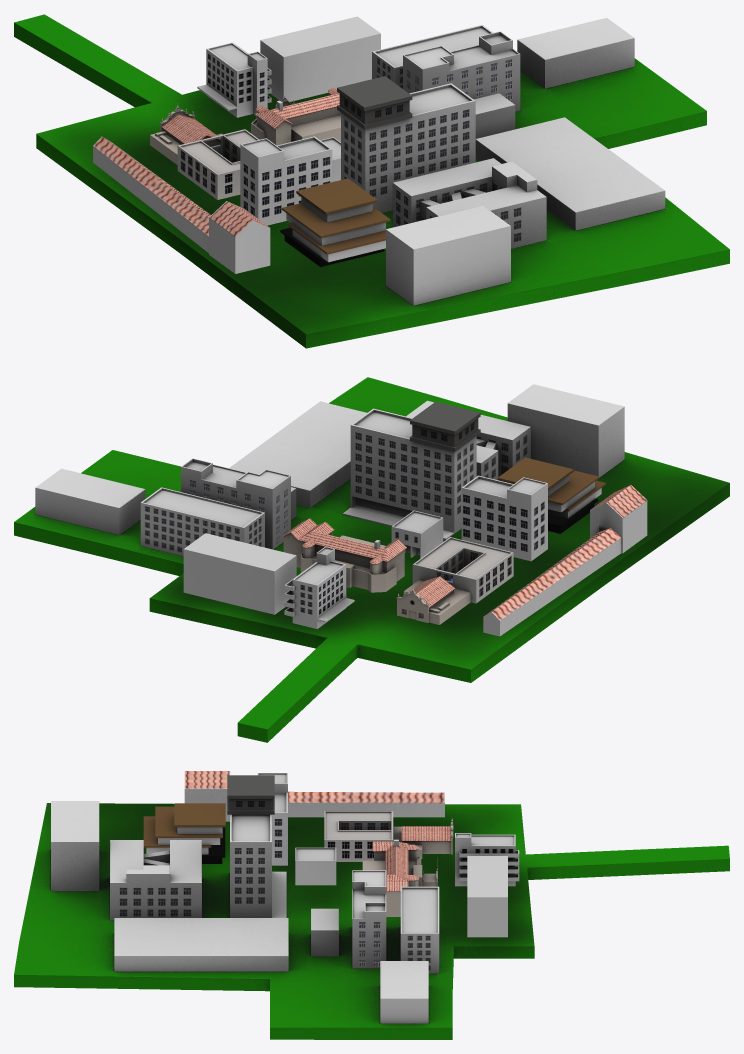
Rendered from ssxs.gltf.
The picture shows the model from 3 angles, top to bottom: view 1: azimuth 30°, elevation 25°; view 2: azimuth 150°, elevation 25°; view 3: azimuth 270°, elevation 25°; orthographic projection. The views are drawn at different scales.
Visible parts, largest first — view 1: group12 polySurface6, group12 polySurface7, group12 polySurface10, group12 polySurface5, group12 polySurface4, group12 polySurface67, group12 polySurface19, group12 polySurface8, group12 polySurface1, group12 polySurface61, group12 polySurface30, group12 polySurface62 (+13 smaller); view 2: group12 polySurface6, group12 polySurface10, group12 polySurface5, group12 polySurface7, group12 polySurface67, group12 polySurface19, group12 polySurface2, group12 polySurface8, group12 polySurface1, group12 polySurface61, group12 polySurface30, group12 polySurface20 (+14 smaller); view 3: group12 polySurface6, group12 polySurface7, group12 polySurface4, group12 polySurface10, group12 polySurface5, group12 polySurface61, group12 polySurface1, group12 polySurface67, group12 polySurface2, group12 polySurface8, group12 polySurface20, group12 polySurface9 (+13 smaller).
Part boxes in pixels (x1,y1,x2,y2): group12 polySurface6: [14, 14, 729, 348]; group12 polySurface7: [475, 117, 665, 230]; group12 polySurface10: [341, 83, 475, 212]; group12 polySurface5: [386, 205, 510, 305]; group12 polySurface4: [392, 158, 546, 248]; group12 polySurface67: [260, 16, 380, 101]; group12 polySurface19: [240, 136, 332, 225]; group12 polySurface8: [517, 18, 634, 88]; group12 polySurface1: [403, 31, 520, 111]; group12 polySurface61: [93, 136, 210, 252]; group12 polySurface30: [197, 42, 267, 117]; group12 polySurface62: [209, 201, 270, 273]; group12 polySurface6: [14, 377, 729, 742]; group12 polySurface10: [342, 408, 476, 539]; group12 polySurface5: [507, 384, 624, 477]; group12 polySurface7: [229, 401, 366, 507]; group12 polySurface67: [183, 533, 296, 614]; group12 polySurface19: [461, 475, 547, 561]; group12 polySurface2: [140, 487, 264, 556]; group12 polySurface8: [35, 468, 145, 534]; group12 polySurface1: [181, 458, 290, 549]; group12 polySurface61: [483, 528, 621, 636]; group12 polySurface30: [292, 546, 354, 628]; group12 polySurface20: [414, 537, 513, 602]; group12 polySurface6: [14, 803, 729, 1039]; group12 polySurface7: [114, 918, 288, 971]; group12 polySurface4: [110, 840, 201, 920]; group12 polySurface10: [230, 814, 286, 917]; group12 polySurface5: [51, 801, 99, 890]; group12 polySurface61: [288, 791, 444, 817]; group12 polySurface1: [352, 870, 386, 968]; group12 polySurface67: [467, 856, 507, 937]; group12 polySurface2: [400, 886, 439, 973]; group12 polySurface8: [380, 961, 428, 1023]; group12 polySurface20: [324, 811, 391, 861]; group12 polySurface9: [227, 775, 274, 814].
Bounding box in the file's own units: 19.35 × 4.38 × 26.1.
Materials: 2 (2 with a texture image).
